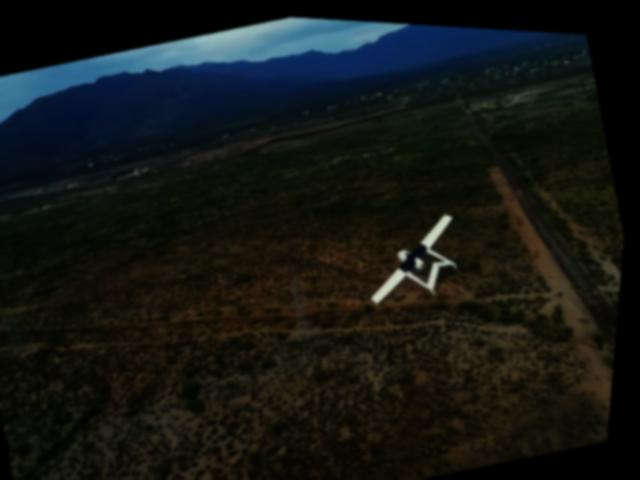plane: (357, 202, 477, 312)
